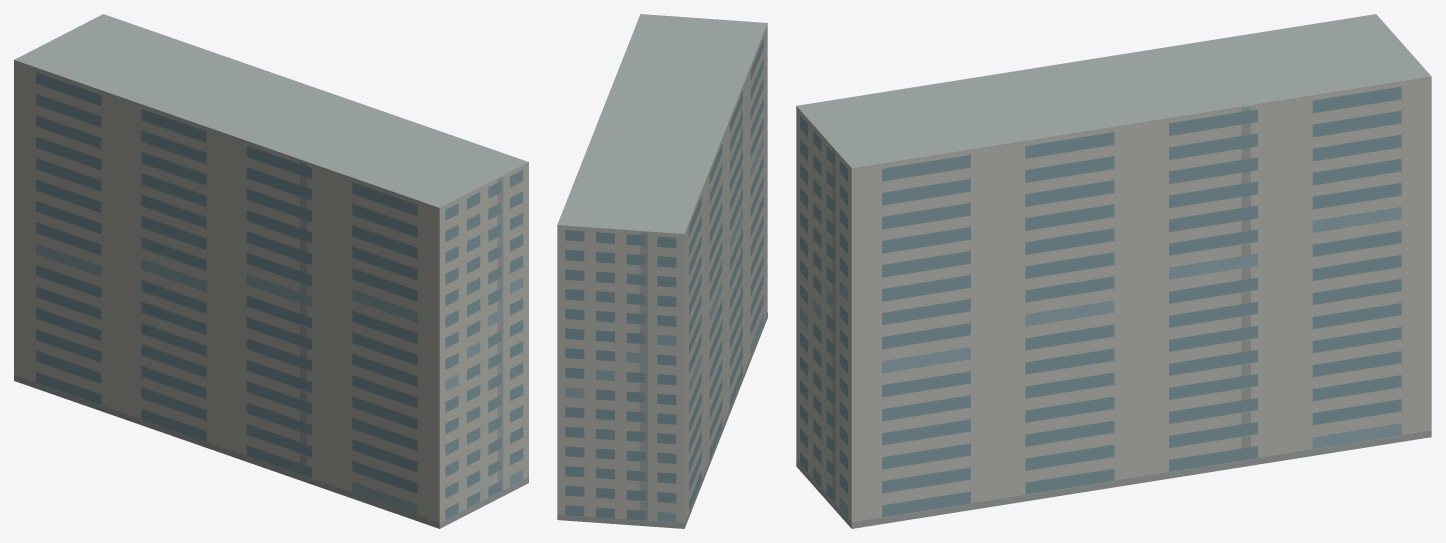
The model's file is residential-b8c99211-9ae3-4960-ac08-b621beb7ee99.glb.
3 views of the same model, side by side, from view 1: azimuth 30°, elevation 25°; view 2: azimuth 150°, elevation 25°; view 3: azimuth 270°, elevation 25° (orthographic). The views are drawn at different scales.
Visible parts, largest first — view 1: residential-b8c99211-9ae3-4960-ac08-b621beb7ee99.tmp; view 2: residential-b8c99211-9ae3-4960-ac08-b621beb7ee99.tmp; view 3: residential-b8c99211-9ae3-4960-ac08-b621beb7ee99.tmp.
Boxes of the visible parts, x1,y1,x2,y2 form: residential-b8c99211-9ae3-4960-ac08-b621beb7ee99.tmp: (14, 14, 528, 528); residential-b8c99211-9ae3-4960-ac08-b621beb7ee99.tmp: (557, 14, 767, 528); residential-b8c99211-9ae3-4960-ac08-b621beb7ee99.tmp: (796, 14, 1431, 528).
Size of the model in its own units: 43.13 by 47 by 75.04.
